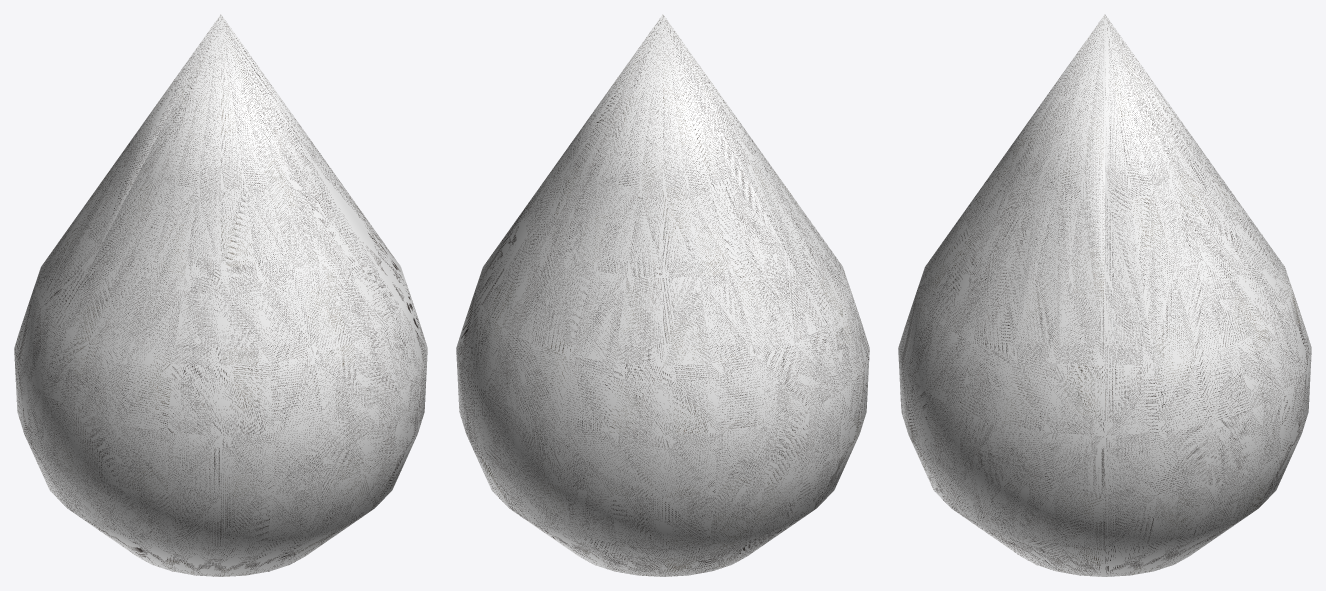
The picture shows the model from 3 angles, left to right: view 1: azimuth 30°, elevation 25°; view 2: azimuth 150°, elevation 25°; view 3: azimuth 270°, elevation 25°; orthographic projection.
Visible parts, largest first — view 1: water_crystal; view 2: water_crystal; view 3: water_crystal.
Boxes of the visible parts, <box> form: water_crystal: <box>14,14,427,576</box>; water_crystal: <box>456,14,869,576</box>; water_crystal: <box>898,14,1311,576</box>.
Size of the model in its own units: 371 by 371 by 541.
